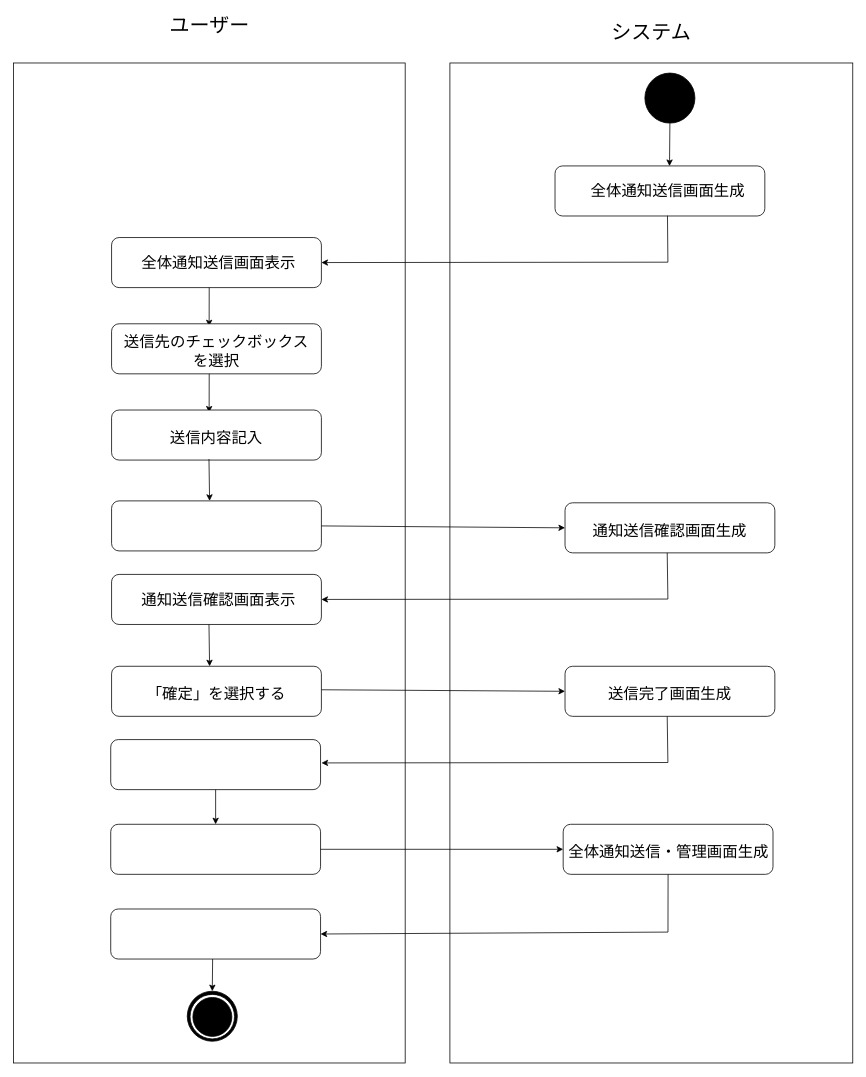
This 866x1077 diagram has some shape labels left out. Each missing label, with the centre of its shape:
"「戻る」を選択する" goes at [215,849].
"「送信」を選択する" goes at [216,525].
"全体通知送信・管理画面表示" goes at [215,933].
"送信完了画面表示" goes at [215,764].
